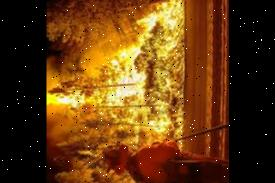fire: (54, 0, 185, 147)
